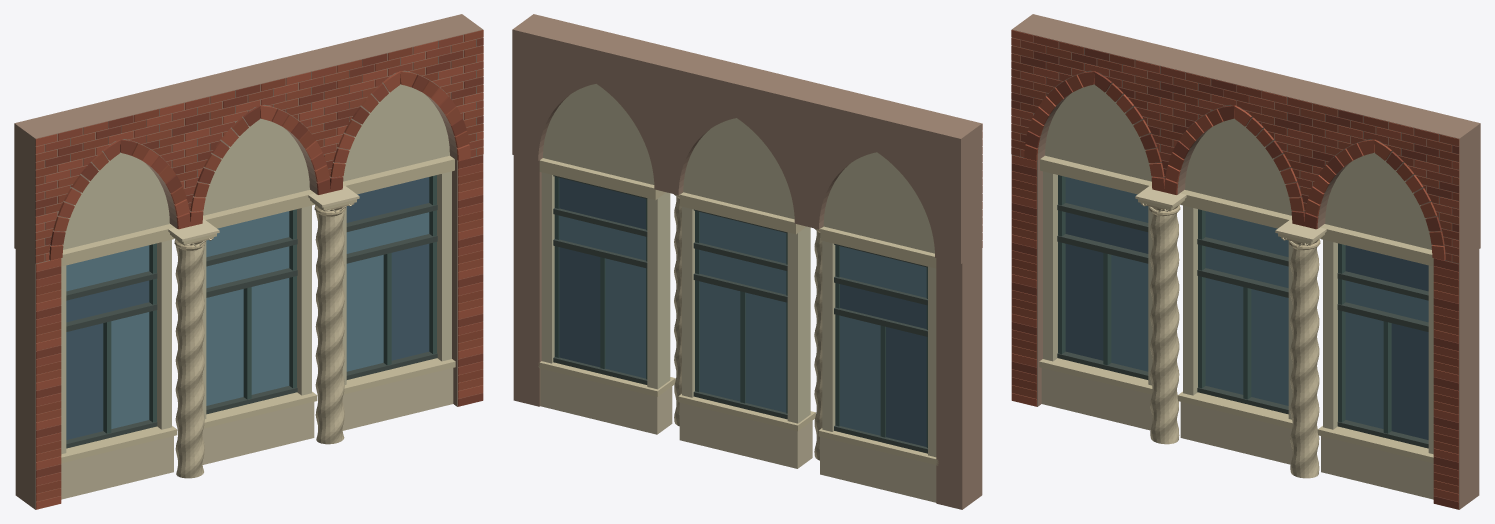
The model's file is jingan-percy-woo-three-pointed-arches-lod.glb.
3 renders of one model, left to right at view 1: azimuth 30°, elevation 25°; view 2: azimuth 150°, elevation 25°; view 3: azimuth 330°, elevation 25°, orthographic.
Visible parts, largest first — view 1: 吴培初住宅三联尖券窗与双螺旋石柱; view 2: 吴培初住宅三联尖券窗与双螺旋石柱; view 3: 吴培初住宅三联尖券窗与双螺旋石柱.
Part boxes in pixels (x1,y1,x2,y2): 吴培初住宅三联尖券窗与双螺旋石柱: (14,14,483,509); 吴培初住宅三联尖券窗与双螺旋石柱: (512,14,982,509); 吴培初住宅三联尖券窗与双螺旋石柱: (1011,14,1480,509).
Size of the model in its own units: 3.9 by 3.09 by 0.494.
